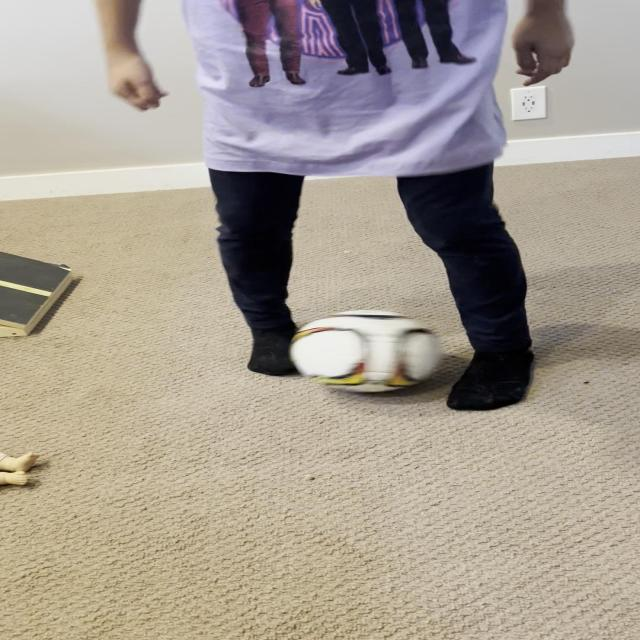Soccer Ball: (292, 310, 443, 394)
